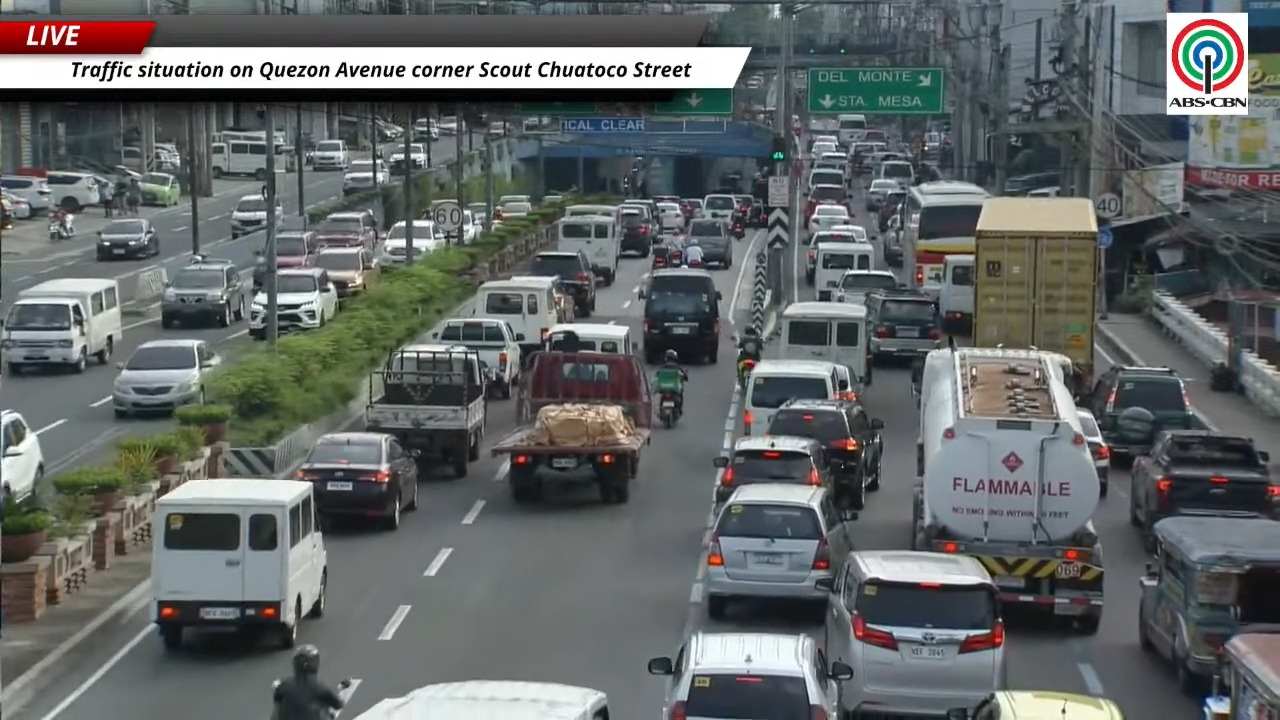bus: (899, 180, 990, 297), (209, 141, 267, 180), (210, 128, 266, 143)
car: (820, 550, 1006, 717), (703, 483, 856, 619), (1129, 430, 1279, 551), (647, 632, 852, 719), (767, 399, 883, 509), (295, 432, 417, 529), (1088, 365, 1198, 462), (113, 338, 220, 417), (638, 268, 721, 364), (714, 435, 831, 503), (161, 256, 247, 328), (864, 290, 942, 362), (0, 409, 51, 502), (528, 251, 595, 317), (276, 267, 338, 332), (805, 225, 867, 284), (310, 246, 380, 297), (1077, 408, 1110, 496), (95, 218, 160, 260), (685, 218, 732, 268), (834, 270, 900, 305), (45, 171, 100, 212), (315, 212, 377, 248), (620, 208, 661, 257), (805, 183, 850, 227), (0, 175, 52, 212), (618, 199, 661, 242), (276, 229, 319, 268), (230, 193, 267, 238), (343, 160, 389, 194), (139, 172, 180, 206), (412, 219, 444, 257), (389, 143, 427, 175), (311, 139, 350, 170), (877, 189, 905, 232), (808, 203, 849, 231), (866, 178, 900, 211), (651, 236, 684, 268), (703, 193, 736, 221), (0, 192, 33, 218), (658, 202, 684, 234), (823, 224, 869, 241), (412, 118, 439, 142), (747, 197, 767, 228), (498, 201, 532, 218), (734, 194, 753, 224), (437, 115, 465, 135), (681, 198, 701, 219), (811, 142, 837, 157), (496, 195, 531, 204), (486, 121, 506, 136)
motorcycle: (658, 392, 680, 428), (48, 214, 74, 240), (738, 357, 756, 392), (337, 679, 352, 701), (731, 221, 745, 239), (685, 258, 703, 268)
truck: (912, 345, 1103, 633), (973, 197, 1098, 398), (491, 351, 652, 503), (364, 343, 486, 477), (432, 318, 524, 398)
